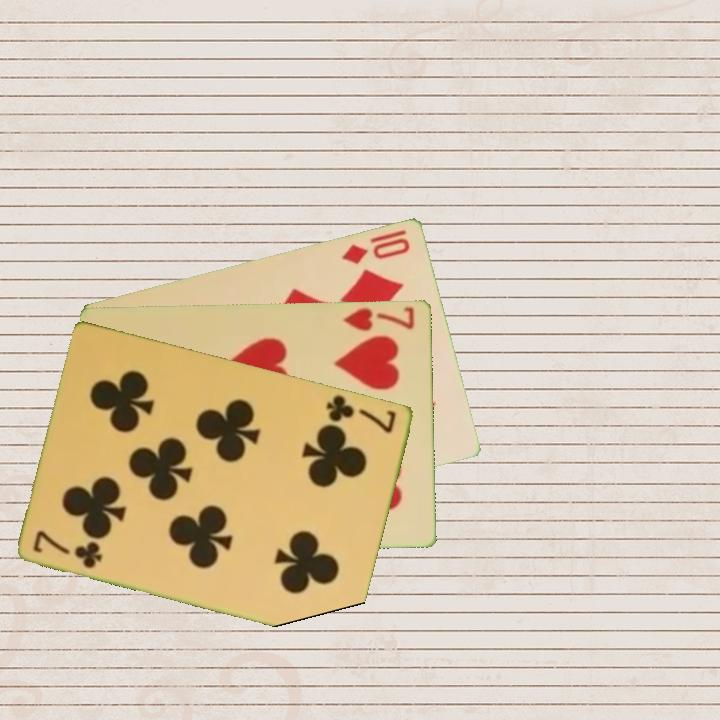10d: (338, 233, 413, 267)
7c: (29, 526, 107, 572), (323, 391, 400, 436)
7h: (340, 302, 417, 334)
